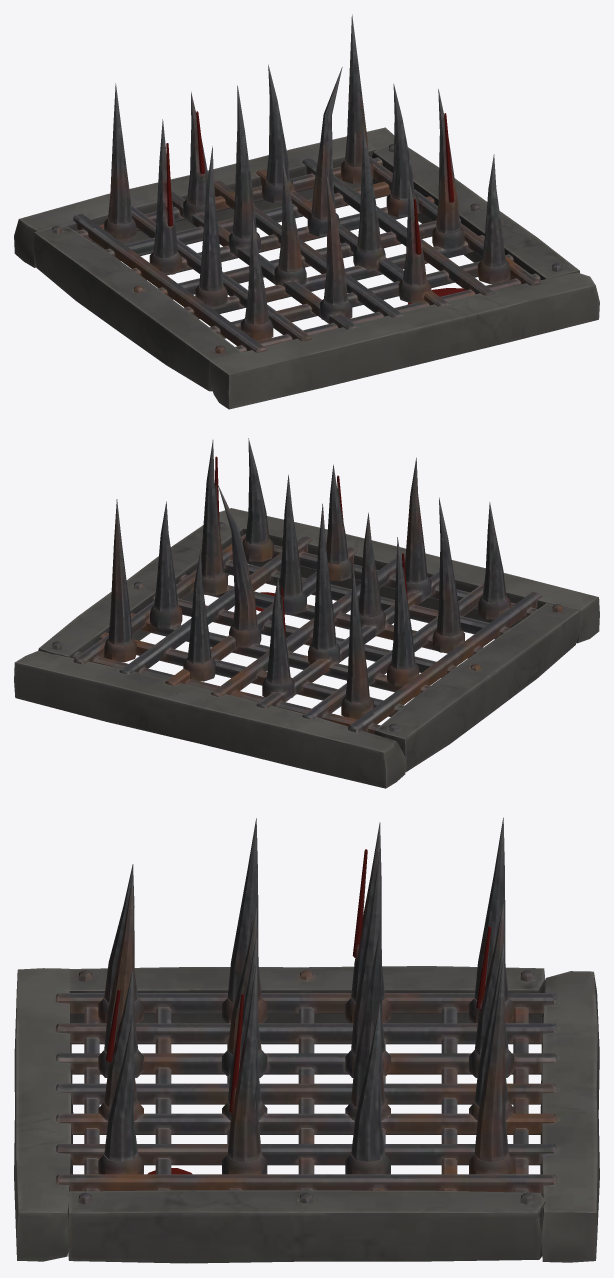
The model's file is spike_trap.glb.
The picture shows the model from 3 angles, top to bottom: view 1: azimuth 30°, elevation 25°; view 2: azimuth 150°, elevation 25°; view 3: azimuth 270°, elevation 25°; orthographic projection. The views are drawn at different scales.
Parts seen in each view (by area): view 1: spike_trap; view 2: spike_trap; view 3: spike_trap.
Boxes of the visible parts, x1=… form: spike_trap: x1=14, y1=14, x2=599, y2=409; spike_trap: x1=14, y1=438, x2=599, y2=788; spike_trap: x1=14, y1=817, x2=599, y2=1263.
Bounding box in the file's own units: 0.9044 × 0.4468 × 0.9015.
1 material, 1 textured.
